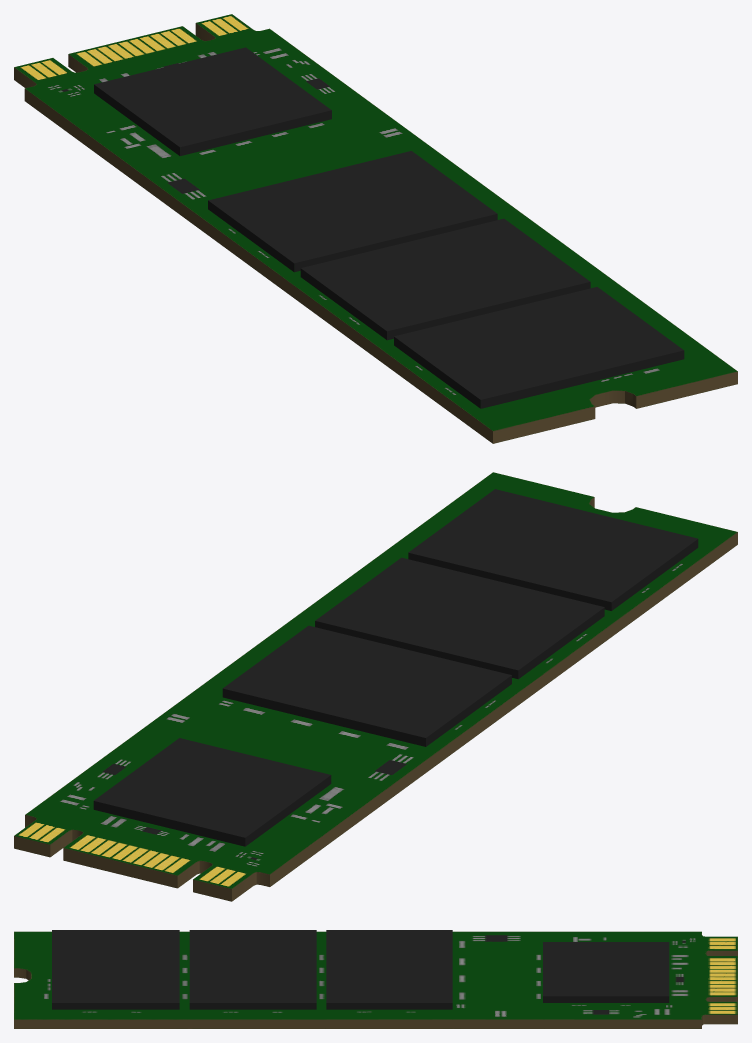
The model's file is ssd_m2.glb.
3 renders of one model, top to bottom at view 1: azimuth 30°, elevation 25°; view 2: azimuth 150°, elevation 25°; view 3: azimuth 270°, elevation 25°, orthographic. The views are drawn at different scales.
Parts seen in each view (by area): view 1: ssd_lp; view 2: ssd_lp; view 3: ssd_lp.
Boxes of the visible parts, x1,y1,x2,y2 form: ssd_lp: [14, 14, 737, 443]; ssd_lp: [14, 472, 737, 901]; ssd_lp: [14, 930, 737, 1028].
Size of the model in its own units: 0.9941 by 0.0839 by 3.46.
1 material, 1 textured.
